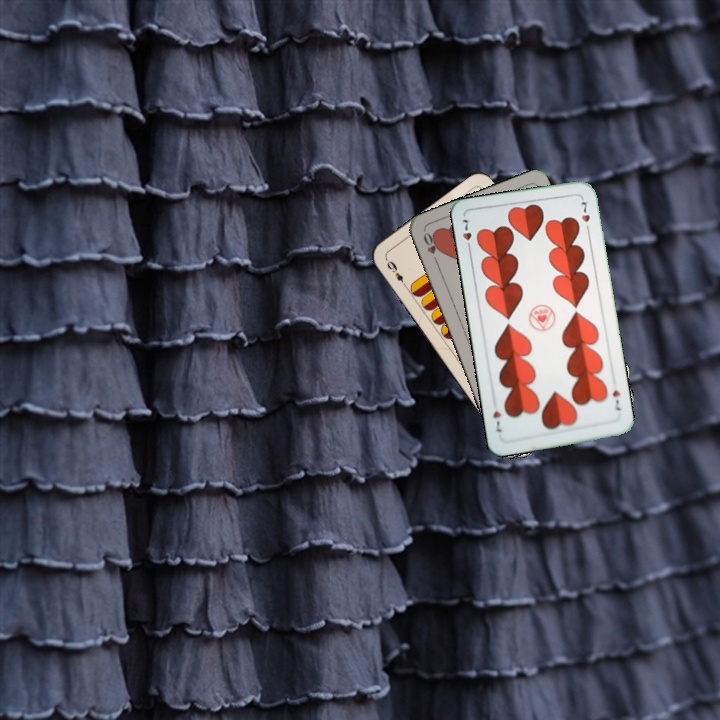E9: (382, 257, 409, 290)
H7: (458, 215, 474, 254), (608, 386, 623, 413)
HO: (419, 228, 441, 267)
